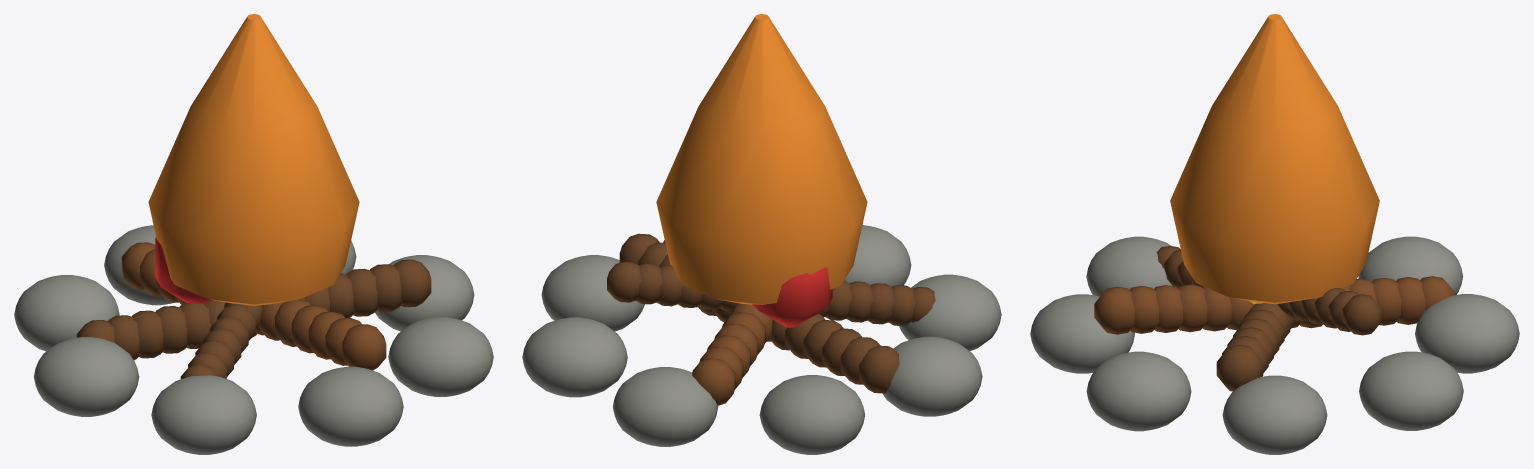
Rendered from campfire.glb.
The picture shows the model from 3 angles, left to right: view 1: azimuth 30°, elevation 25°; view 2: azimuth 150°, elevation 25°; view 3: azimuth 270°, elevation 25°; orthographic projection.
Parts seen in each view (by area): view 1: campfire; view 2: campfire; view 3: campfire.
Part boxes in pixels (bbox=[...]): campfire: bbox=[14, 14, 493, 454]; campfire: bbox=[522, 14, 1001, 454]; campfire: bbox=[1030, 14, 1519, 454].
Bounding box in the file's own units: 1.4 × 1.11 × 1.4.
